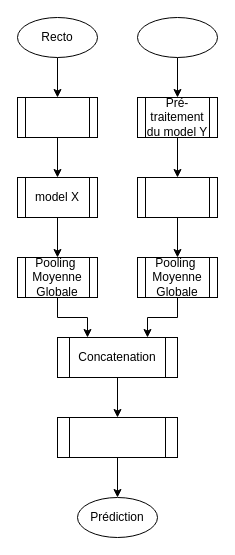
Image size: 235x555. Some labels were removed from this diagram. The centre of each missing label's shape, as x and y in pixels:
"Dense Dropout 0,2 7 sorties" goes at (x=117, y=437).
"model Y" goes at (x=177, y=197).
"Pré-traitement du model X" goes at (x=57, y=117).
"Verso" goes at (x=177, y=37).
